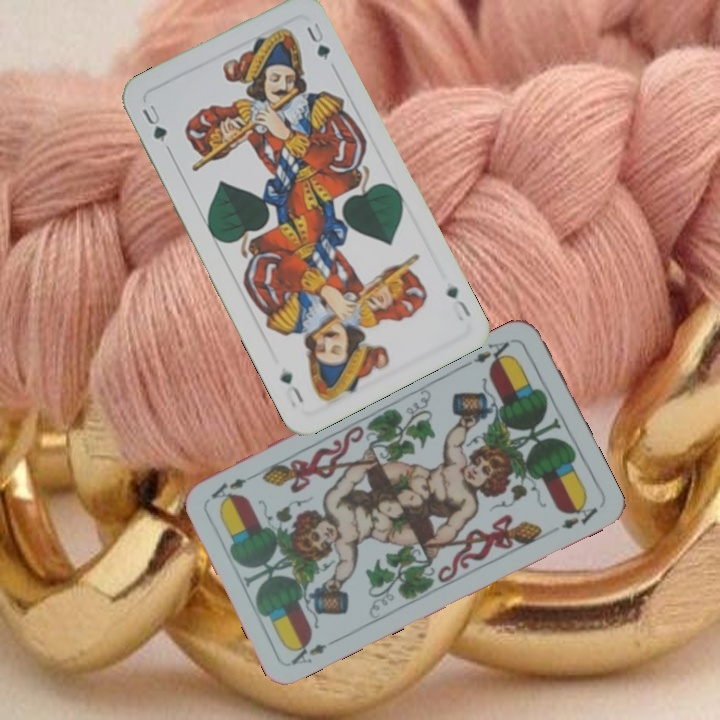EA: (286, 634, 342, 668), (462, 337, 516, 369)
GU: (138, 100, 170, 145), (442, 280, 474, 324)
